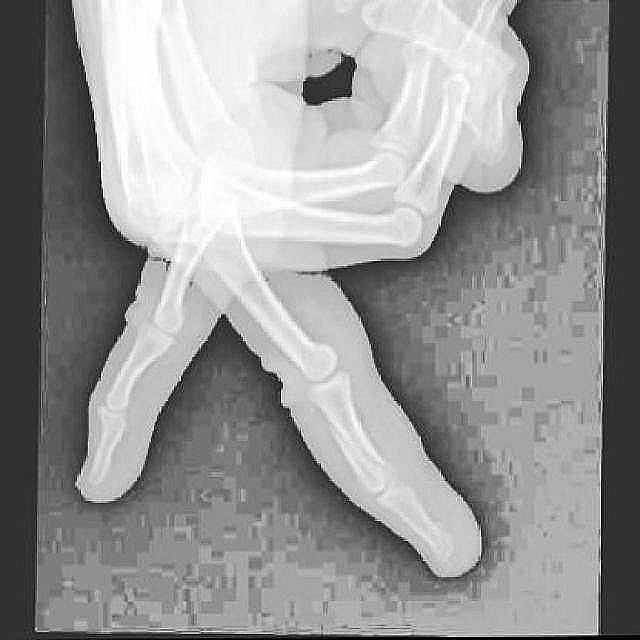bone: (318, 425, 391, 503)
